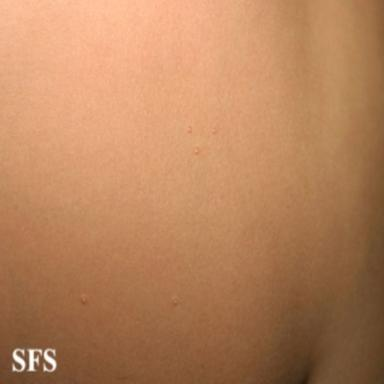Molluscum-Contagiosum: (187, 126, 192, 133), (81, 297, 86, 304), (212, 128, 217, 134), (173, 299, 178, 305), (195, 148, 199, 154)
